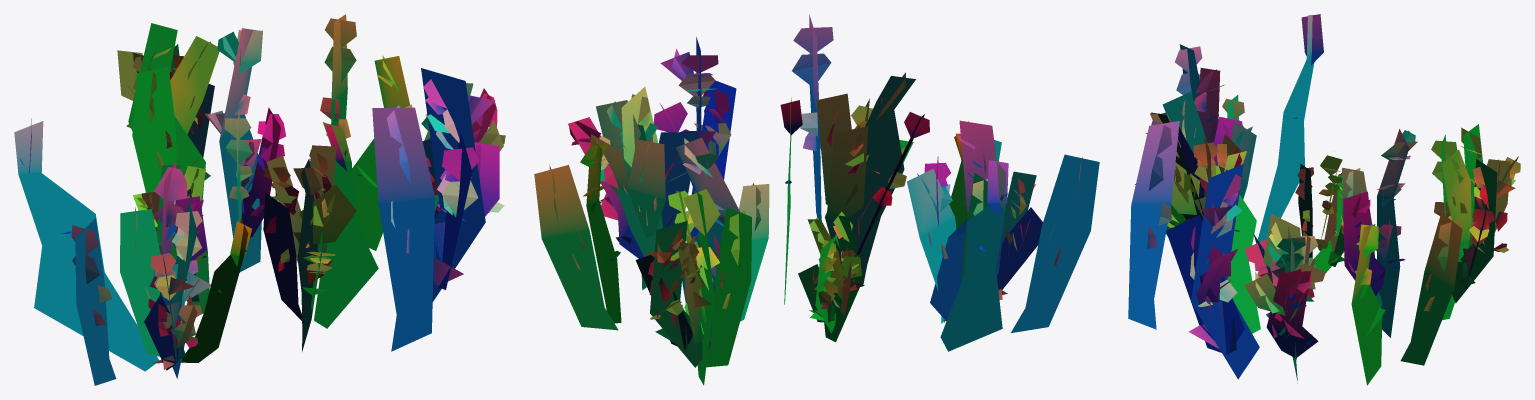
The model's file is Nordic_Coastal_Groundcover_vlqkdeaja_Mid_vlqkdeaja_VarL_LOD0.fbx.
3 renders of one model, left to right at view 1: azimuth 30°, elevation 25°; view 2: azimuth 150°, elevation 25°; view 3: azimuth 270°, elevation 25°, orthographic. The views are drawn at different scales.
Visible parts, largest first — view 1: _c27h_VarL_LOD1; view 2: _c27h_VarL_LOD1; view 3: _c27h_VarL_LOD1.
Part boxes in pixels (bbox=[...]): _c27h_VarL_LOD1: bbox=[14, 14, 505, 385]; _c27h_VarL_LOD1: bbox=[534, 14, 1099, 385]; _c27h_VarL_LOD1: bbox=[1128, 14, 1520, 385].
Bounding box in the file's own units: 81.37 × 41.56 × 64.58.
